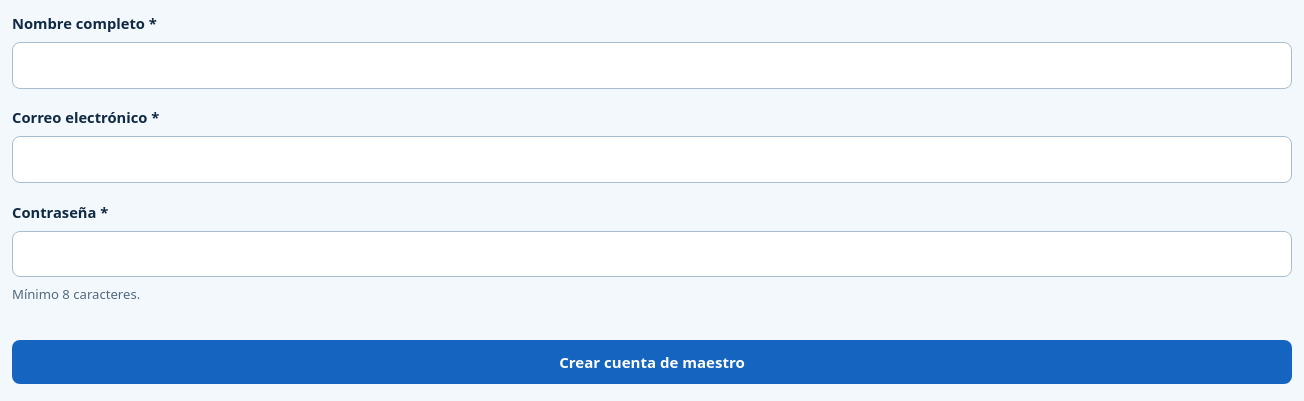
Test: registro directo sin verificación de correo › lleva al maestro a su panel justo después de registrarse
Type "Nueva Alumna" into the field labelled "Nombre completo *" at point(652, 65), box x1=12 y1=42 x2=1292 y2=89
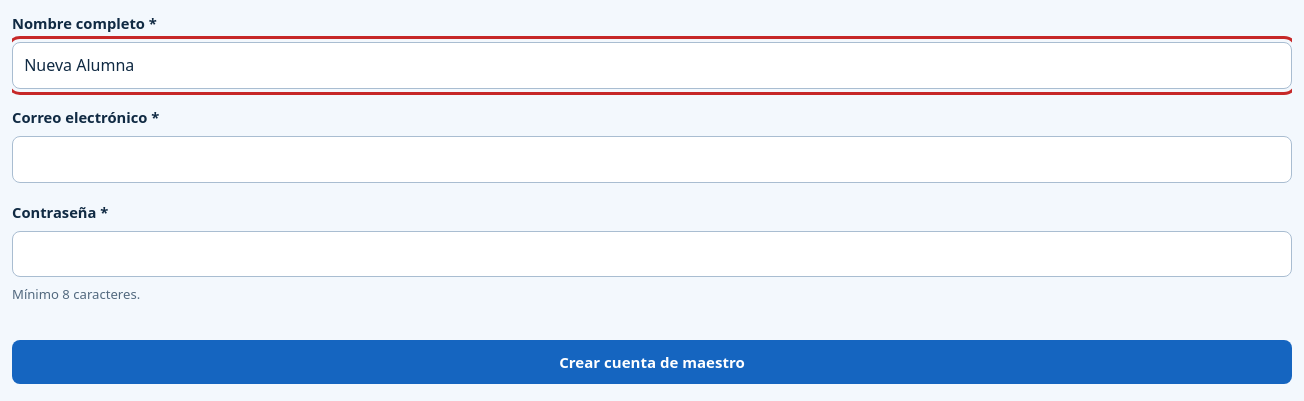
Type "nueva@ejemplo.es" into the field labelled "Correo electrónico *" at point(652, 160), box x1=12 y1=136 x2=1292 y2=183
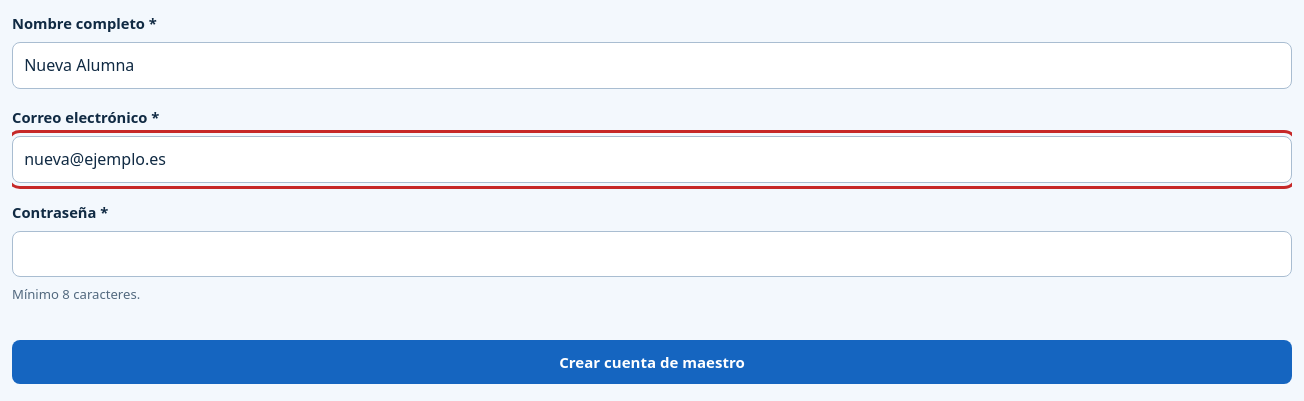
Type "12345678" into the password field labelled "Contraseña *" at point(652, 254), box x1=12 y1=231 x2=1292 y2=277
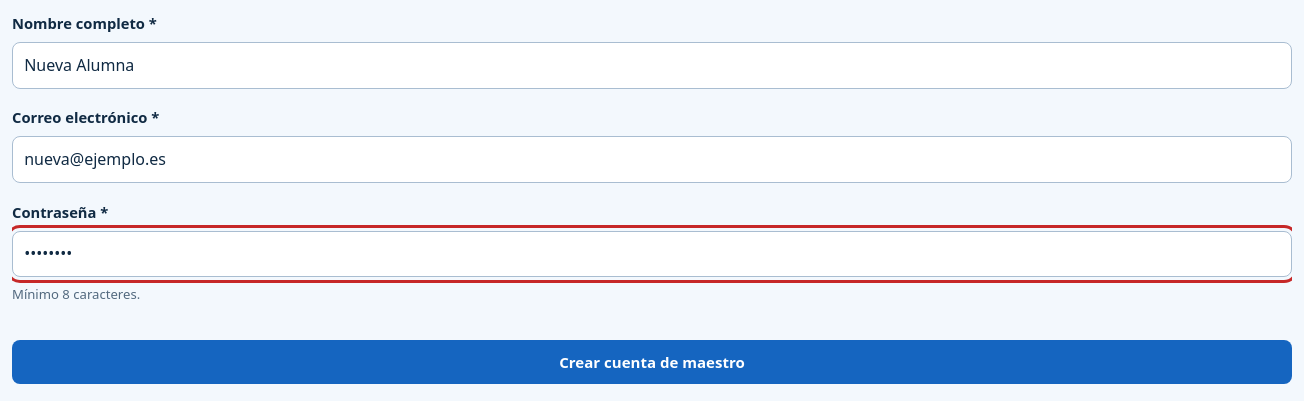
Click the button "Crear cuenta de maestro" at point(652, 362), box x1=12 y1=340 x2=1292 y2=384
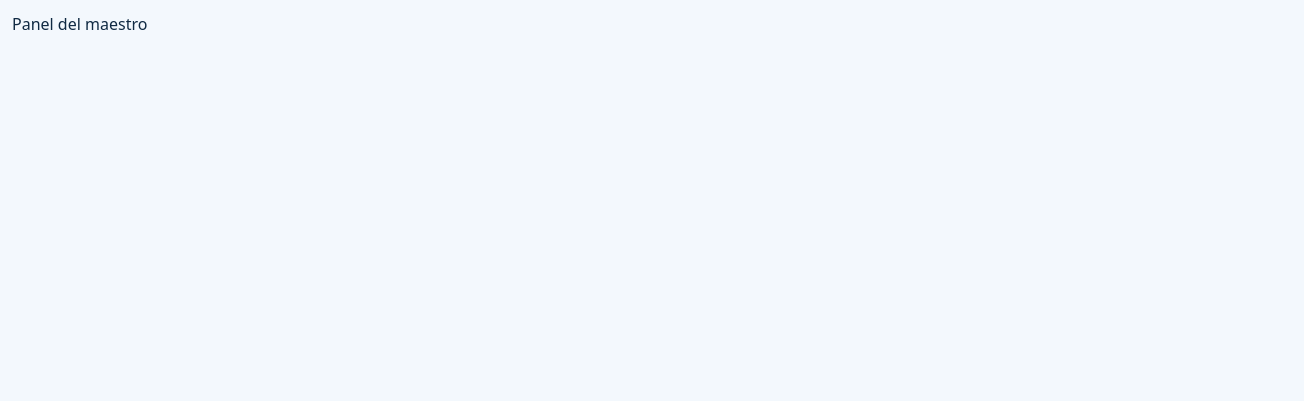
Check: the text "Panel del maestro" is shown, box x1=12 y1=13 x2=147 y2=35
